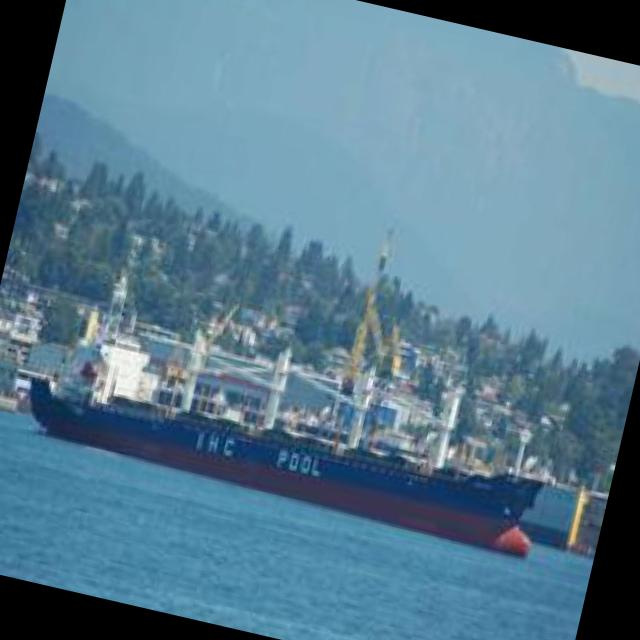boat: (10, 364, 548, 562)
